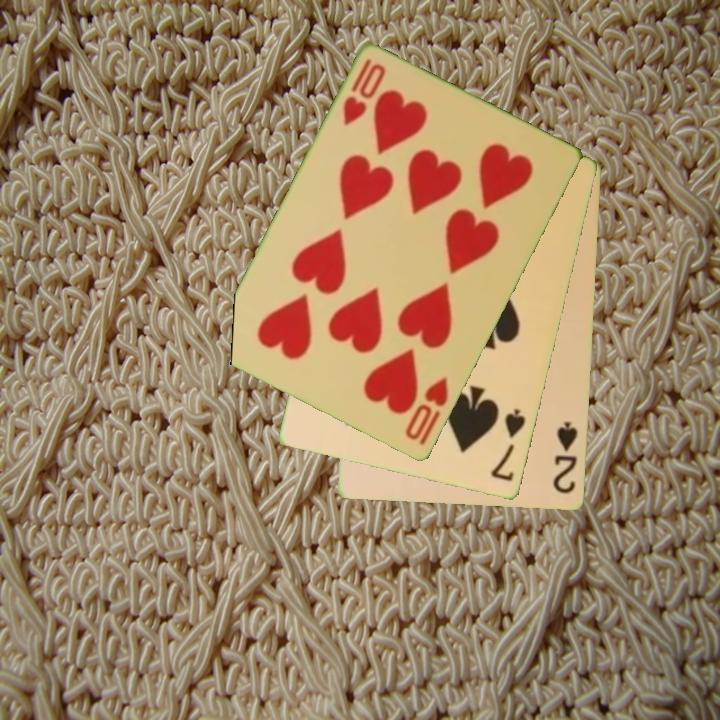10h: (339, 55, 389, 129), (401, 373, 452, 444)
2s: (550, 418, 581, 497)
7s: (487, 405, 529, 485)
